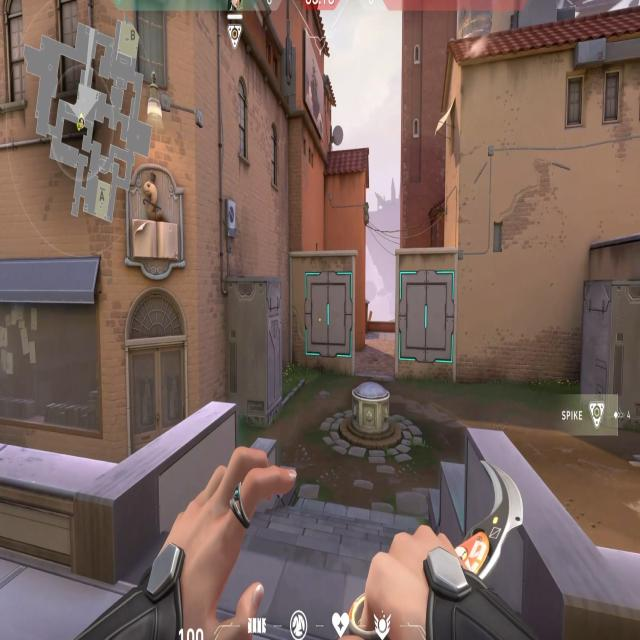Mid_Wall: (389, 243, 460, 390), (296, 251, 362, 384)
